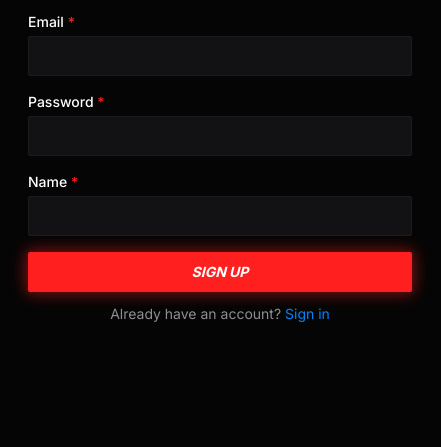
SignUpForm › does not promise highlighted fields when signup fails without field errors
In the field labelled "Email": (220,56) [28,36,412,76], type "member@example.com"
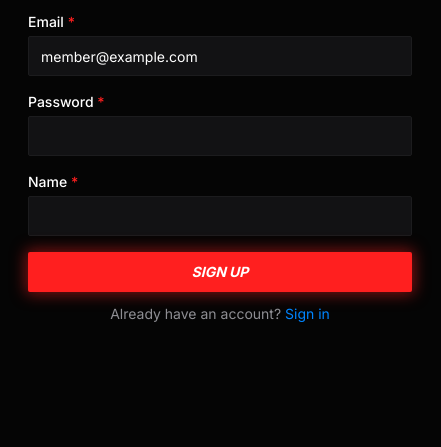
In the password field labelled "Password *": (220,136) [28,116,412,156], type "strong-password-123"
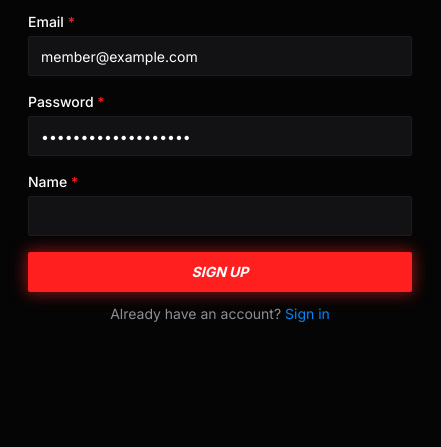
In the field labelled "Name": (220,216) [28,196,412,236], type "Test Member"
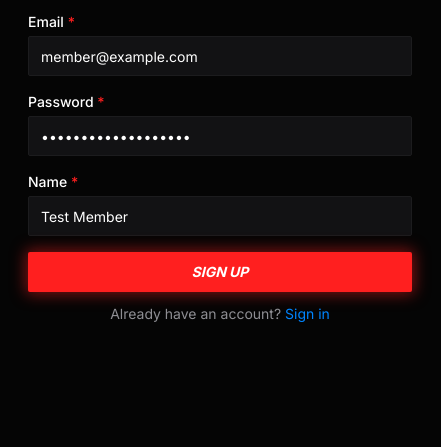
Click the button "Sign up": (220,272) [28,252,412,292]
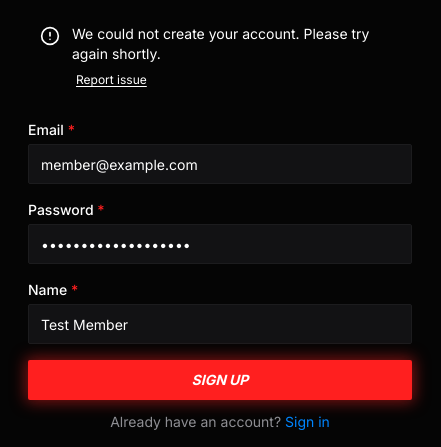
Expected: the button "Sign up" is enabled, [28,360,412,400]
Expected: the text "We could not create your account. Please try again shortly." is shown, [72,24,400,64]
